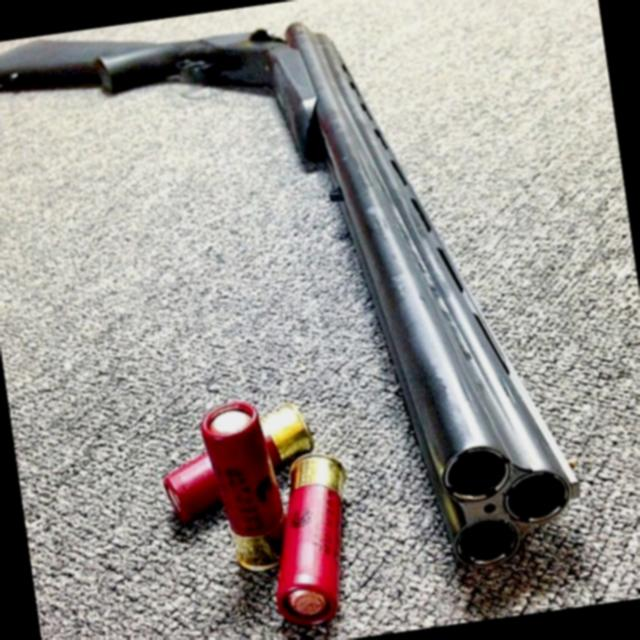shotgun: (0, 0, 575, 633)
